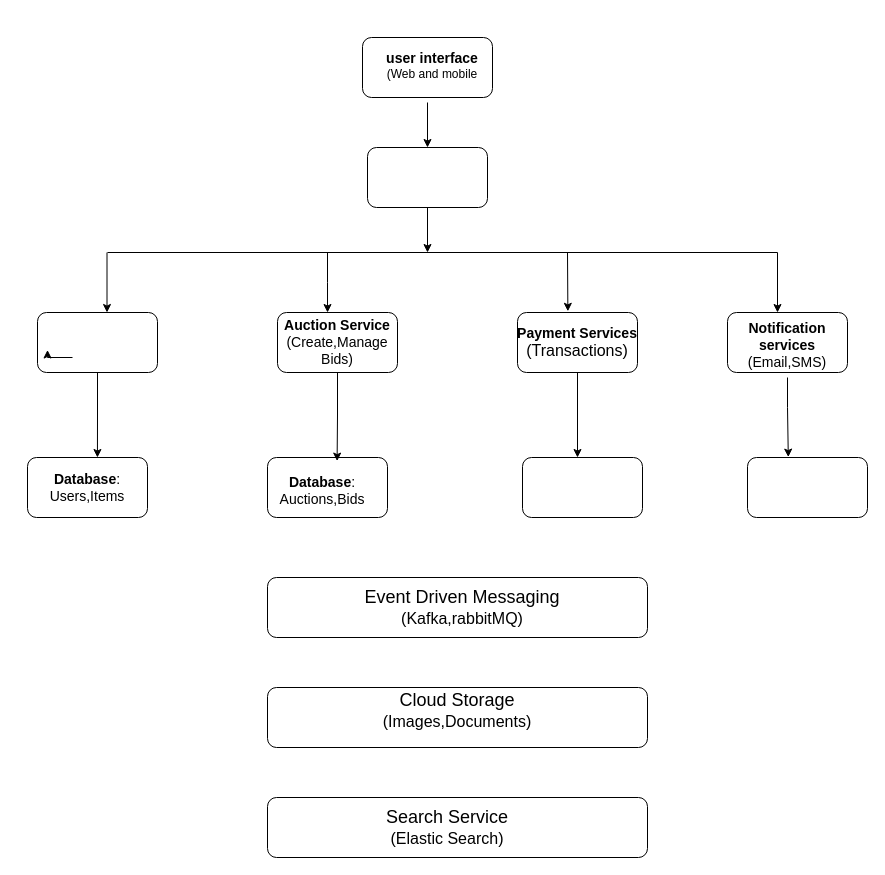
The diagram is 885 pixels wide and 875 high, and some of its shapes have lost their labels. The box of each missing label's shape, as (x1, y1, x2, y2) in pixels:
API Gateway Services: (366, 146, 488, 208)
Database : Messages,Logs: (746, 456, 868, 518)
Database : Transactions: (522, 456, 642, 518)
User Services (Auth,Profile): (36, 312, 158, 372)
